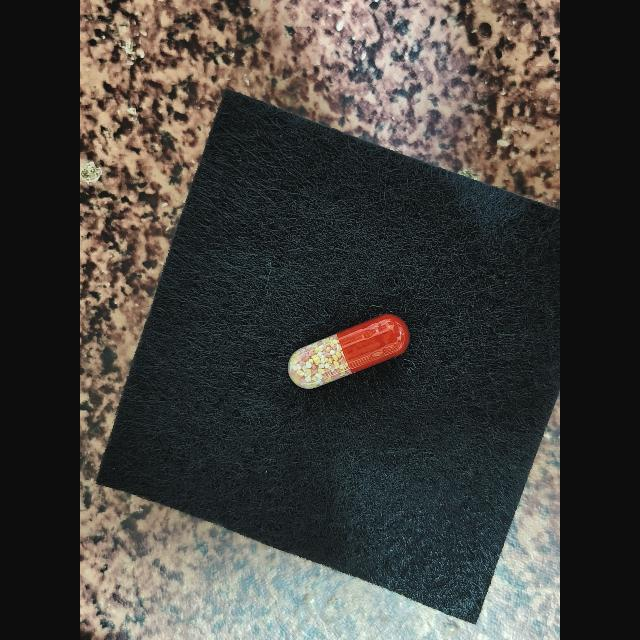Intact Capsule: (288, 314, 409, 389)
